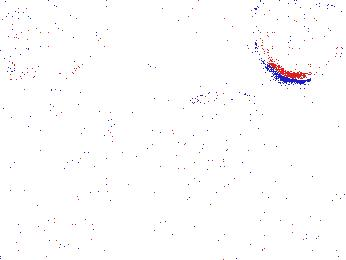moon jellyfish: (252, 1, 346, 81), (1, 1, 89, 74), (171, 90, 260, 153)
